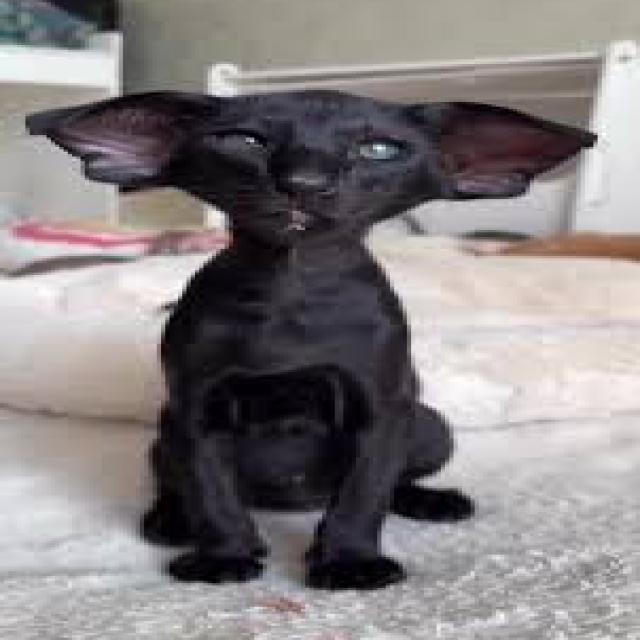Oriental: (21, 87, 603, 594)
